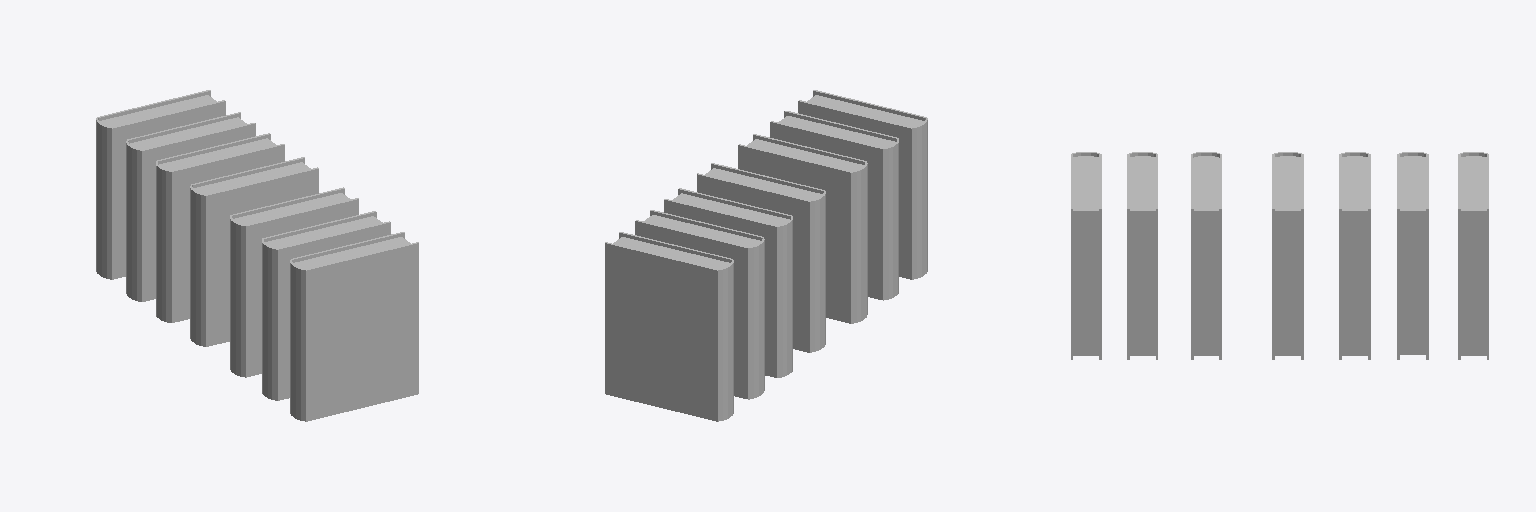
File: 1book.obj
The picture shows the model from 3 angles: view 1: azimuth 30°, elevation 25°; view 2: azimuth 150°, elevation 25°; view 3: azimuth 270°, elevation 25°; orthographic projection.
Visible parts, largest first — view 1: Cube.006_Cube.008, Cube.000_Cube.004, Cube.001_Cube.003, Cube.004_Cube.001, Cube.002_Cube.006, Cube.003_Cube.007, Cube.005; view 2: Cube.002_Cube.006, Cube.004_Cube.001, Cube.000_Cube.004, Cube.005, Cube.003_Cube.007, Cube.006_Cube.008, Cube.001_Cube.003; view 3: Cube.001_Cube.003, Cube.000_Cube.004, Cube.003_Cube.007, Cube.004_Cube.001, Cube.006_Cube.008, Cube.005, Cube.002_Cube.006.
Boxes of the visible parts, x1,y1,x2,y2 form: Cube.006_Cube.008: [290, 232, 418, 421]; Cube.000_Cube.004: [190, 157, 318, 346]; Cube.001_Cube.003: [156, 133, 284, 322]; Cube.004_Cube.001: [230, 187, 358, 377]; Cube.002_Cube.006: [96, 90, 225, 279]; Cube.003_Cube.007: [126, 112, 255, 301]; Cube.005: [262, 211, 390, 400]; Cube.002_Cube.006: [605, 232, 733, 421]; Cube.004_Cube.001: [738, 134, 867, 323]; Cube.000_Cube.004: [697, 163, 825, 352]; Cube.005: [770, 111, 898, 300]; Cube.003_Cube.007: [635, 210, 764, 399]; Cube.006_Cube.008: [798, 90, 927, 279]; Cube.001_Cube.003: [664, 188, 792, 377]; Cube.001_Cube.003: [1339, 152, 1370, 359]; Cube.000_Cube.004: [1272, 152, 1303, 359]; Cube.003_Cube.007: [1397, 152, 1428, 359]; Cube.004_Cube.001: [1191, 152, 1221, 359]; Cube.006_Cube.008: [1071, 152, 1101, 359]; Cube.005: [1127, 152, 1157, 359]; Cube.002_Cube.006: [1458, 152, 1488, 359].
Size of the model in its own units: 0.2945 by 0.358 by 0.8956.